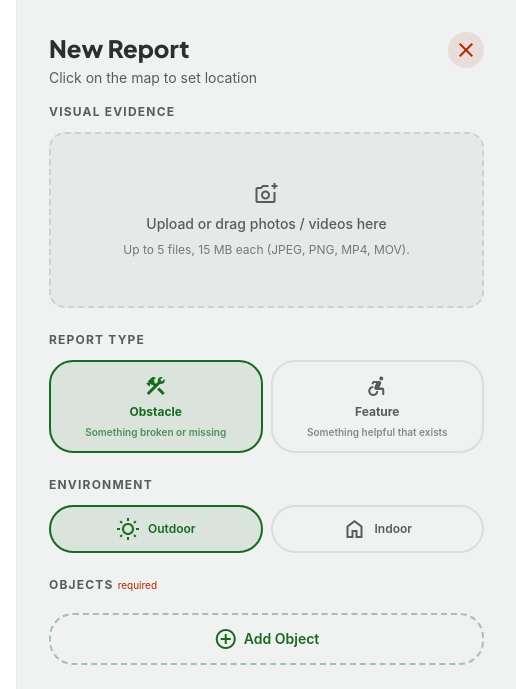
Test case: CreateReportPanel › object cards › removes an object card when delete button is clicked
The image size is (516, 689).
What coordinates should you click on to do the following:
click the button "Add Object"
I would click on:
 (266, 638)
Its box is 49,612 -> 484,664.
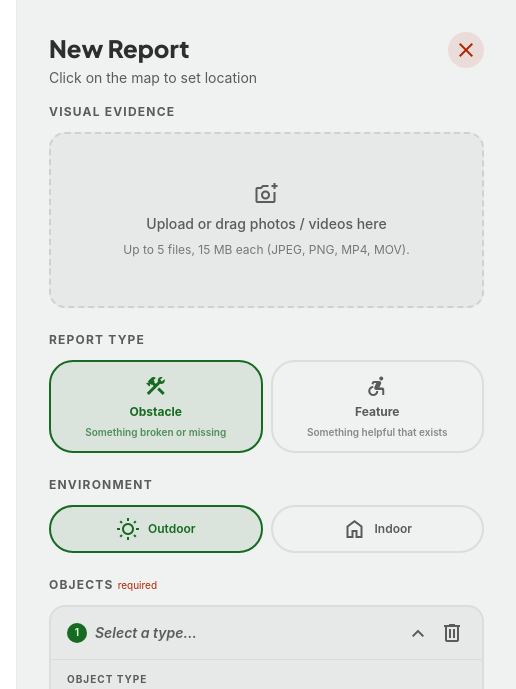
Expected: the text "Select a type…" is shown, 95,624 -> 197,640
What coordinates should you click on to do the following:
click the button named "remove object"
I would click on:
 (452, 632)
Its box is 438,618 -> 466,646.
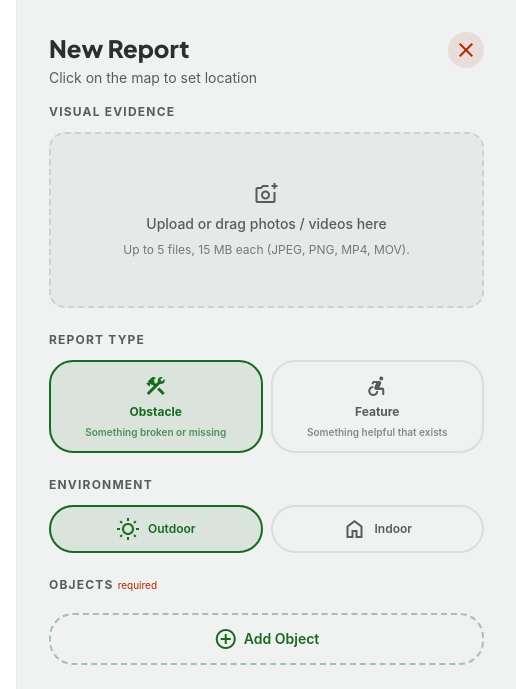
Expected: the text "Select a type…" is gone
